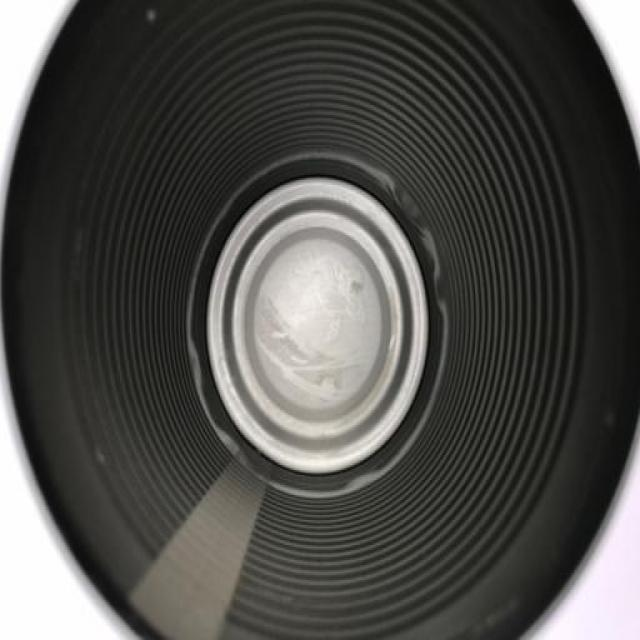metel: (6, 2, 640, 640)
